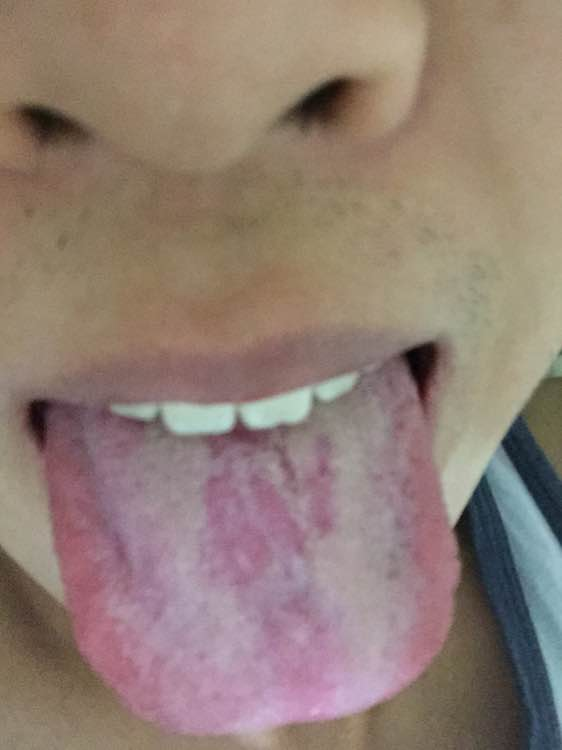botaishe: (174, 417, 346, 598)
huangtaishe: (39, 357, 460, 734)
